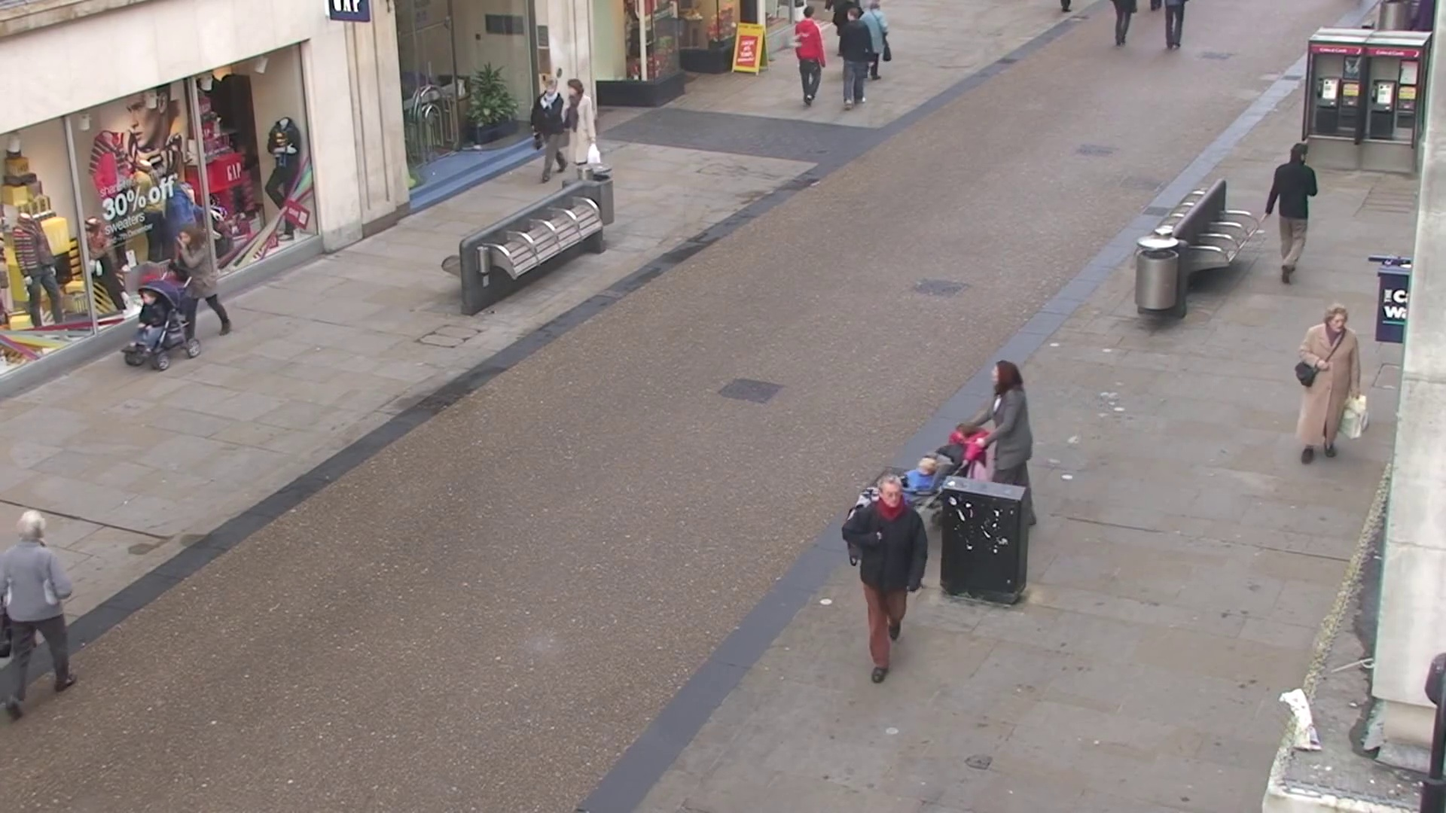person: (843, 473, 928, 683), (0, 511, 78, 706), (944, 361, 1032, 490), (1293, 303, 1363, 463), (174, 196, 232, 340), (1264, 139, 1320, 282), (563, 72, 608, 178), (532, 72, 571, 182), (834, 2, 871, 108), (793, 6, 828, 107), (865, 1, 892, 78)
